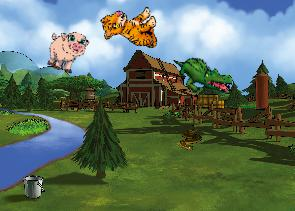crocodile: (173, 57, 233, 94)
pig: (42, 25, 91, 77)
tiger: (99, 1, 162, 58)
